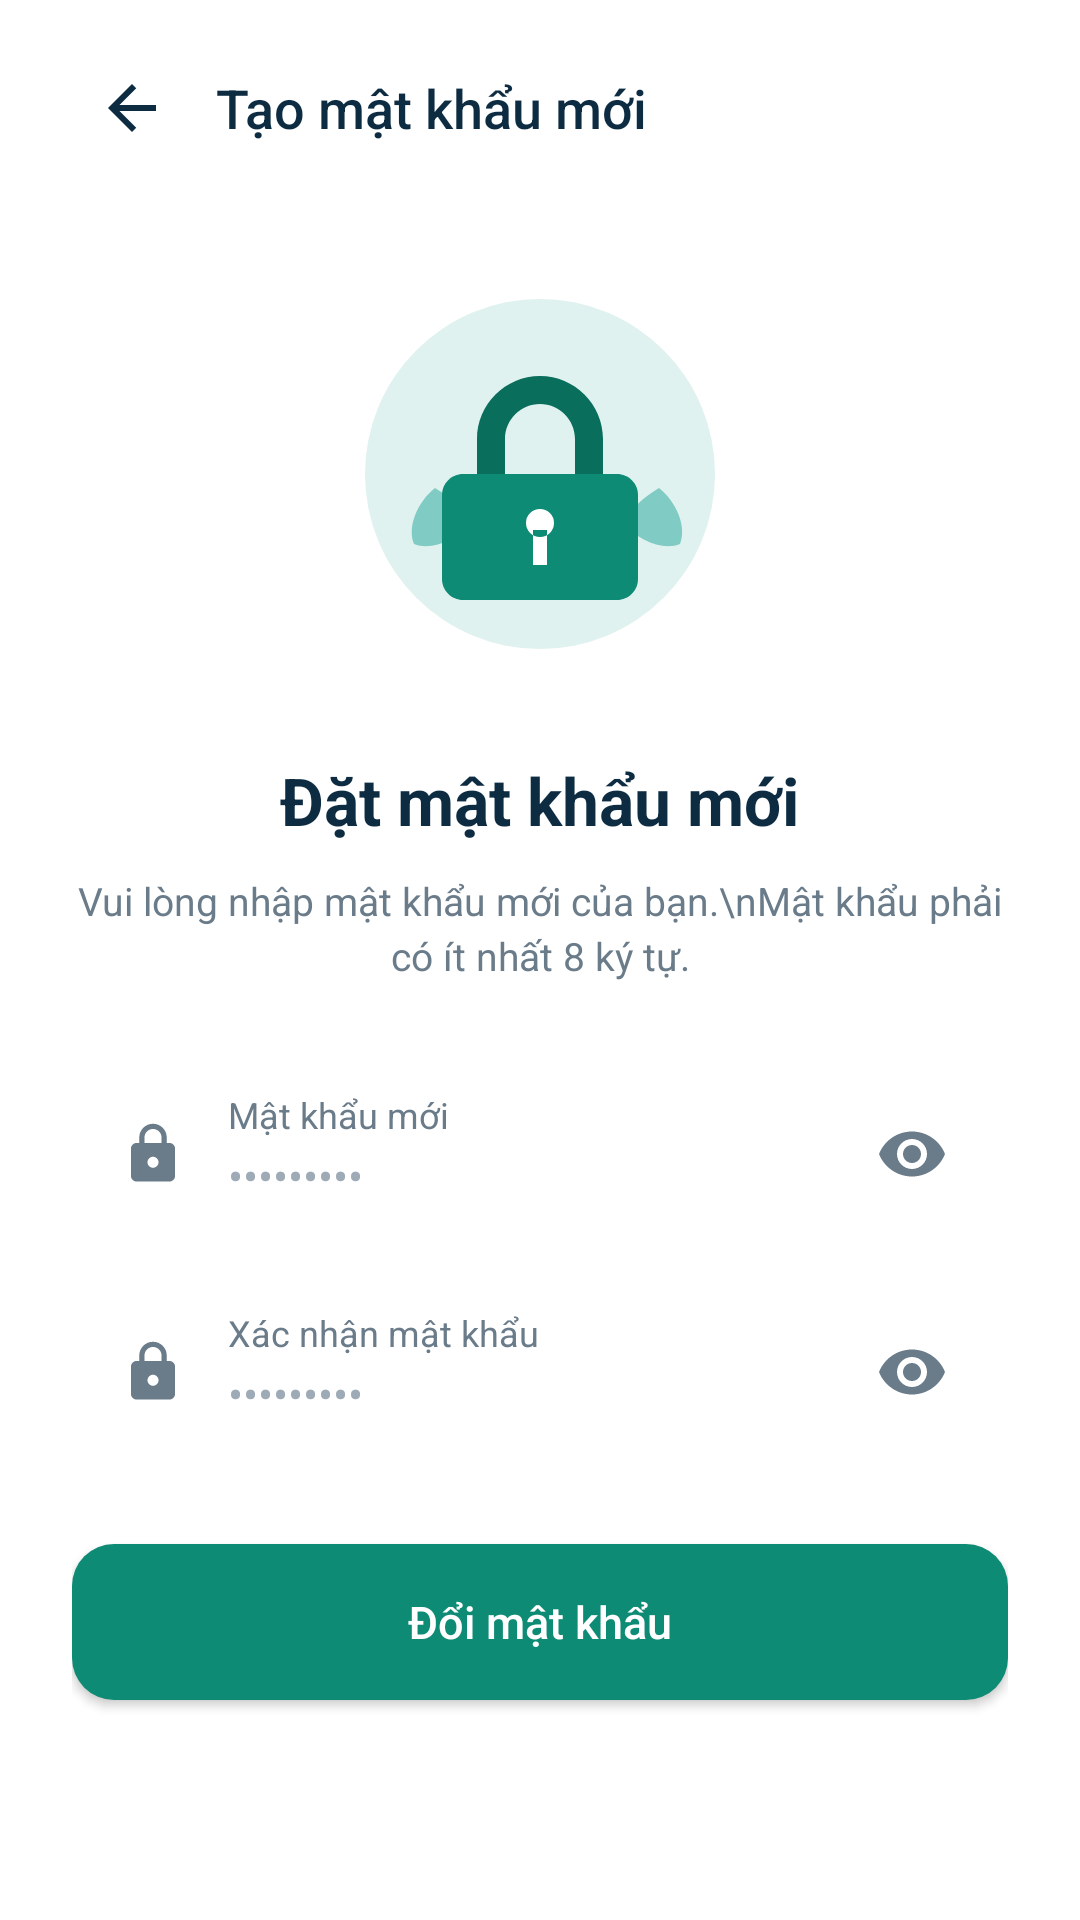

Named icons in this screenshot (1080px x 1920px) and their bounding boxes, (left=x1, top=y1, right=x2, bottom=y2):
Quay lại: (left=108, top=84, right=156, bottom=132)
Ẩn hiện mật khẩu: (left=879, top=1131, right=945, bottom=1177)
Ẩn hiện xác nhận mật khẩu: (left=879, top=1349, right=945, bottom=1395)
